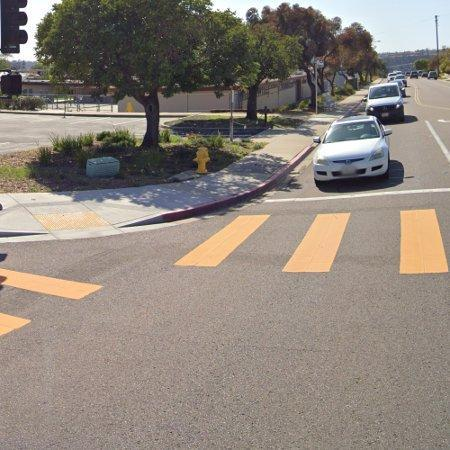crosswalks: (173, 208, 450, 275), (0, 265, 105, 339)
